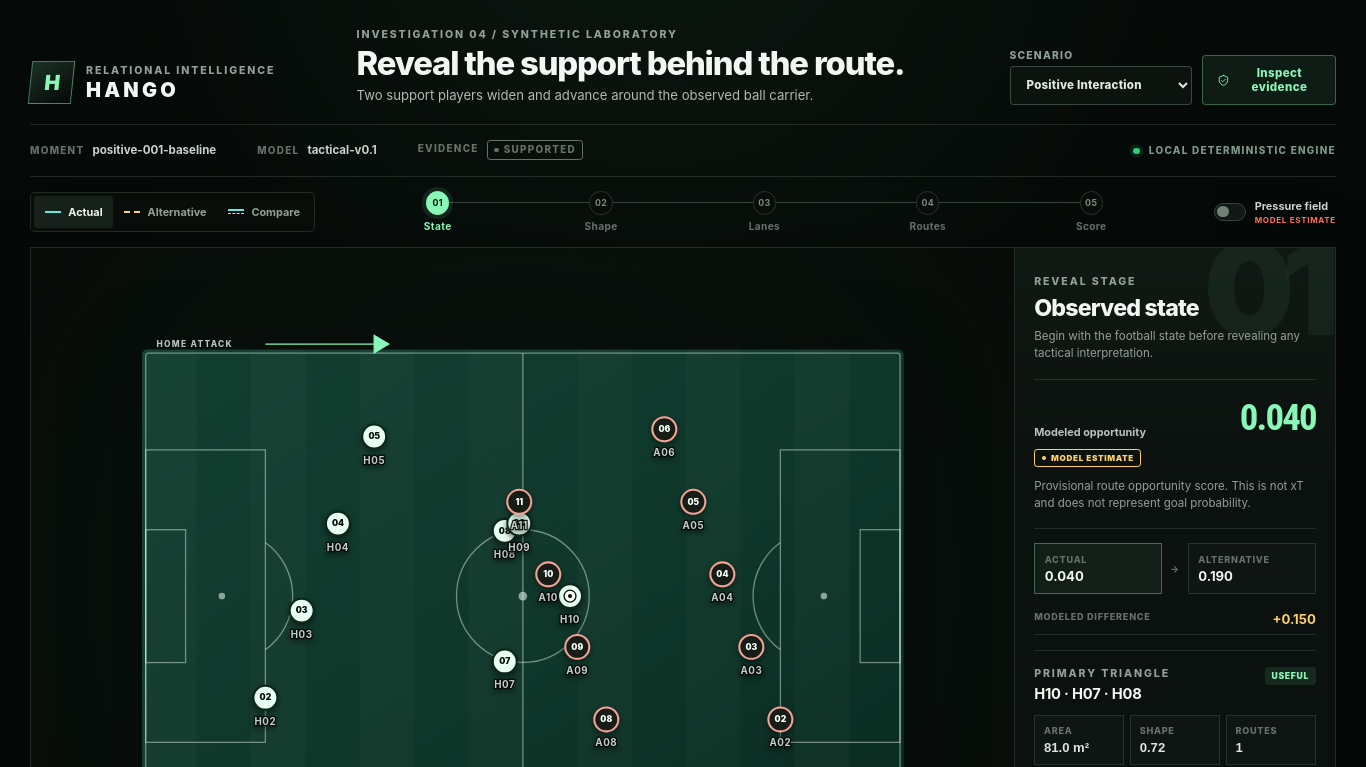
Test case: InvestigationWorkspace › retrieves replay evidence and closes the ledger with Escape
The image size is (1366, 767).
Click the button "Inspect evidence": (1269, 80) [1202,55,1336,105]
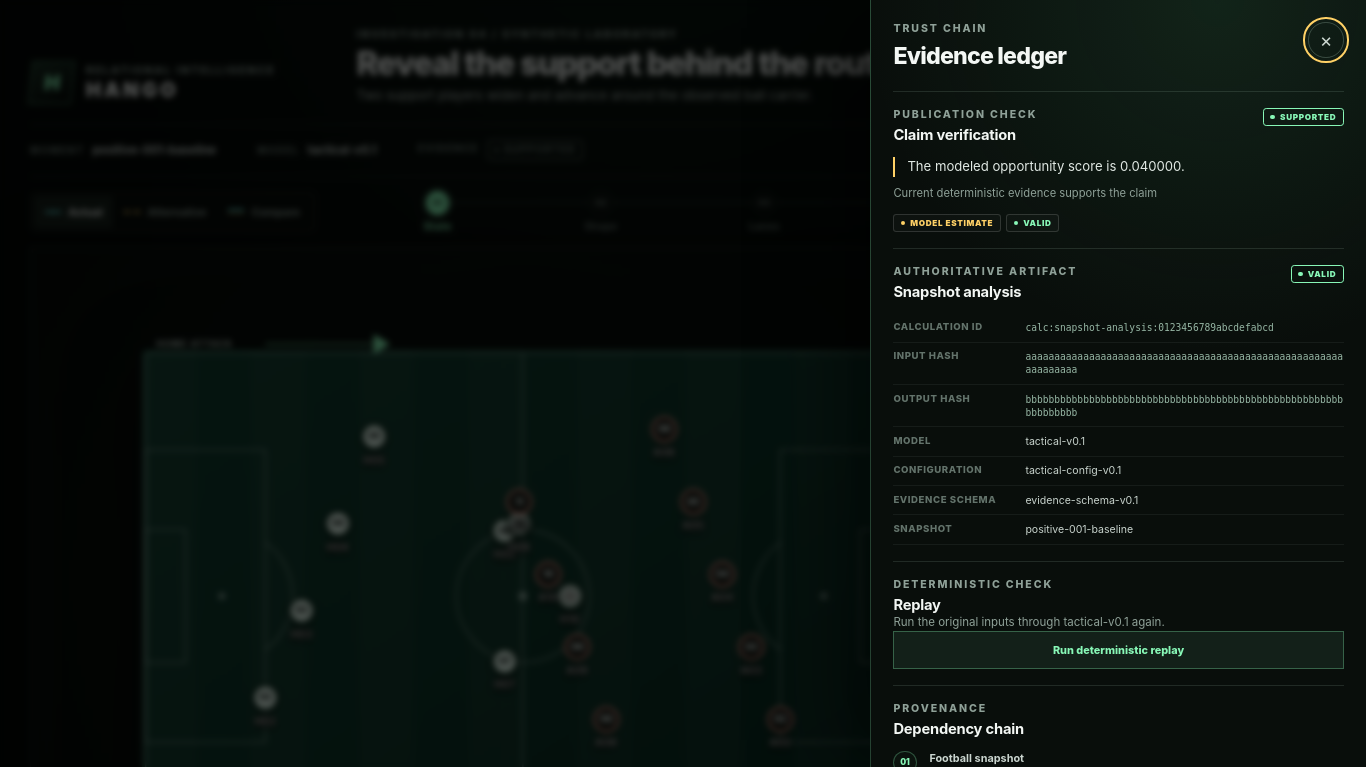
Click the button "Run deterministic replay": (1118, 650) [893,631,1344,669]
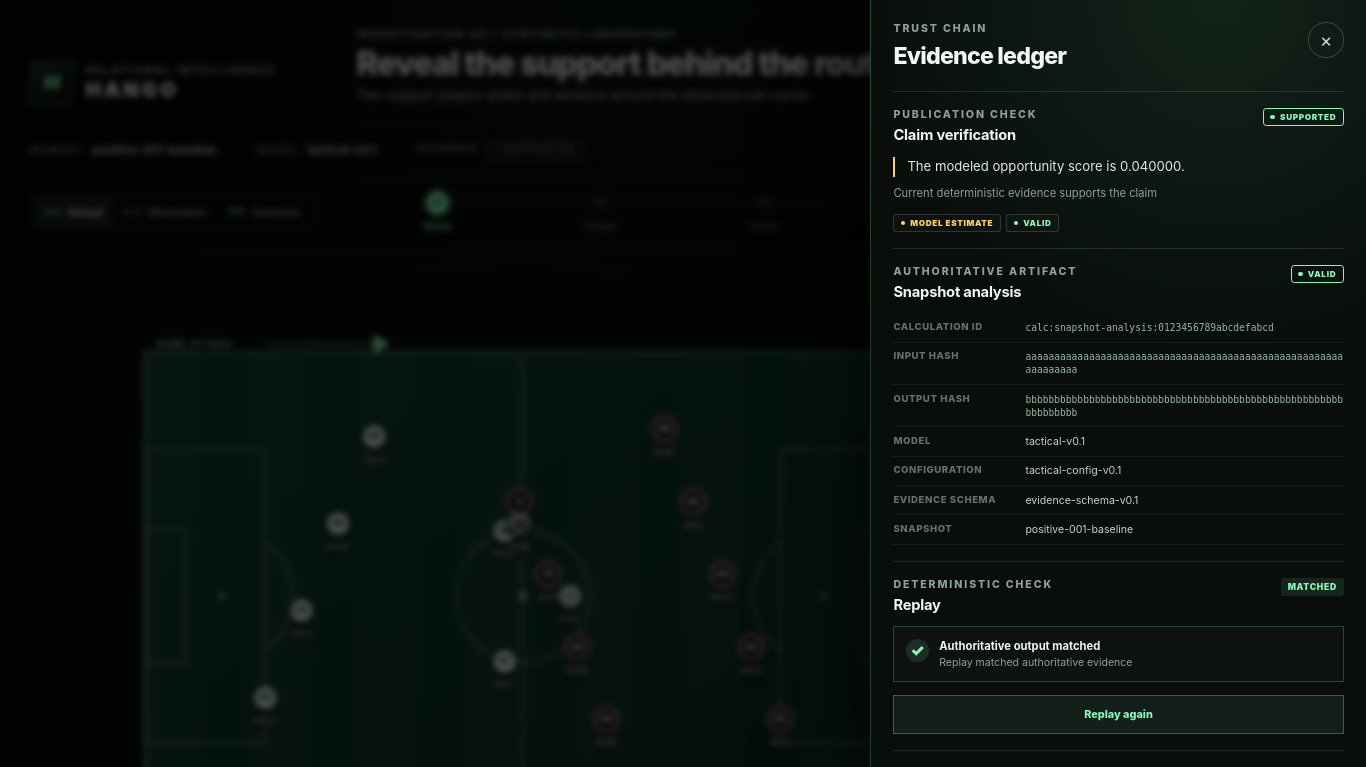
Result: the text "Authoritative output matched" is shown at [939,638,1100,652]
Press Escape
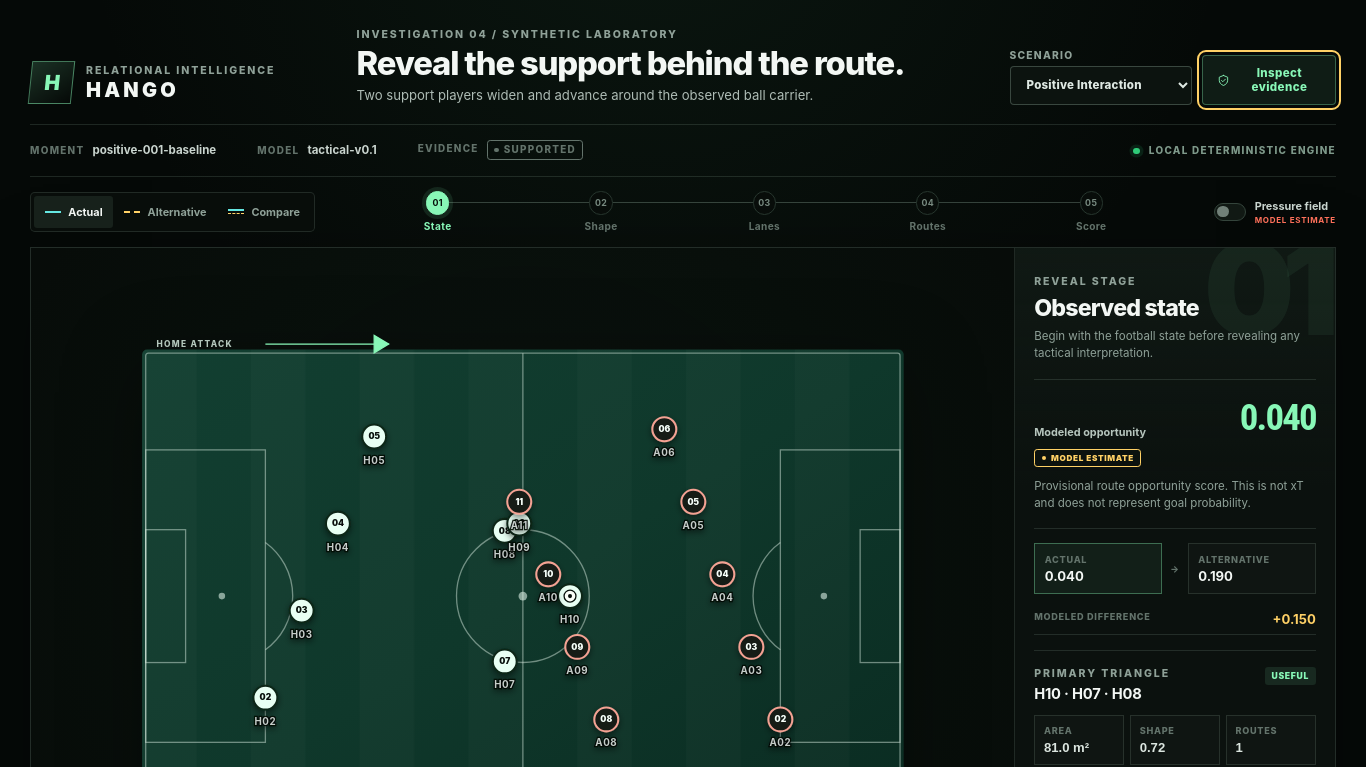
Result: the heading "Evidence ledger" is gone
